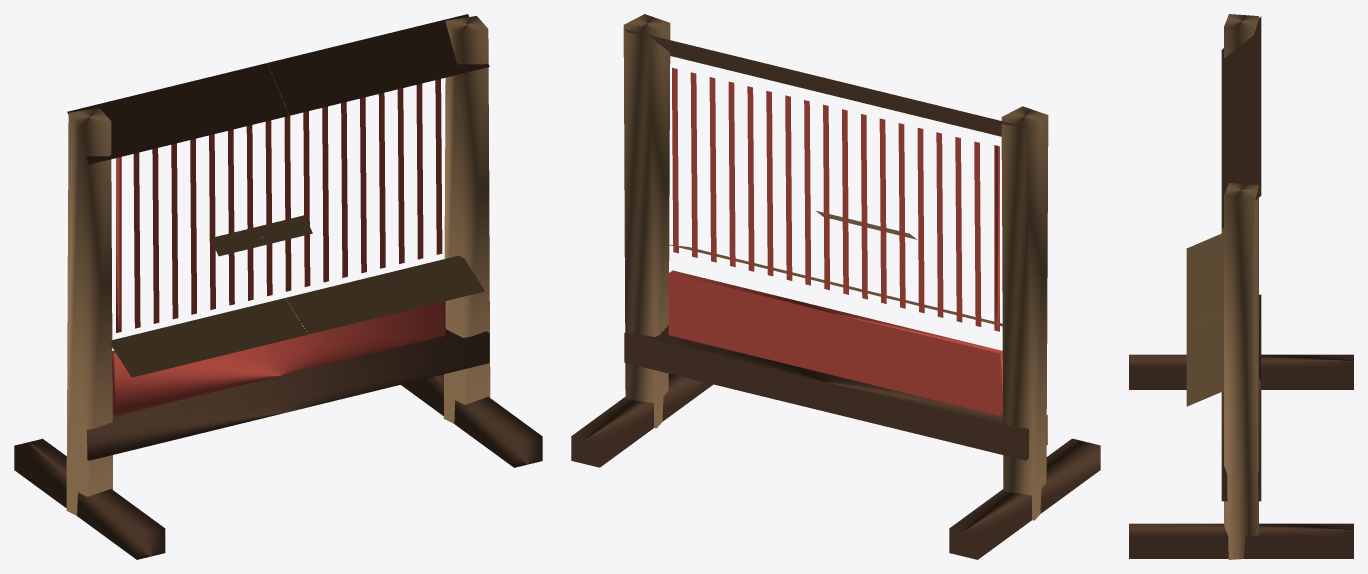
The model's file is loom_lod1.glb.
3 renders of one model, left to right at view 1: azimuth 30°, elevation 25°; view 2: azimuth 150°, elevation 25°; view 3: azimuth 270°, elevation 25°, orthographic. The views are drawn at different scales.
Bounding box in the file's own units: 1.74 × 1.6 × 0.9.
